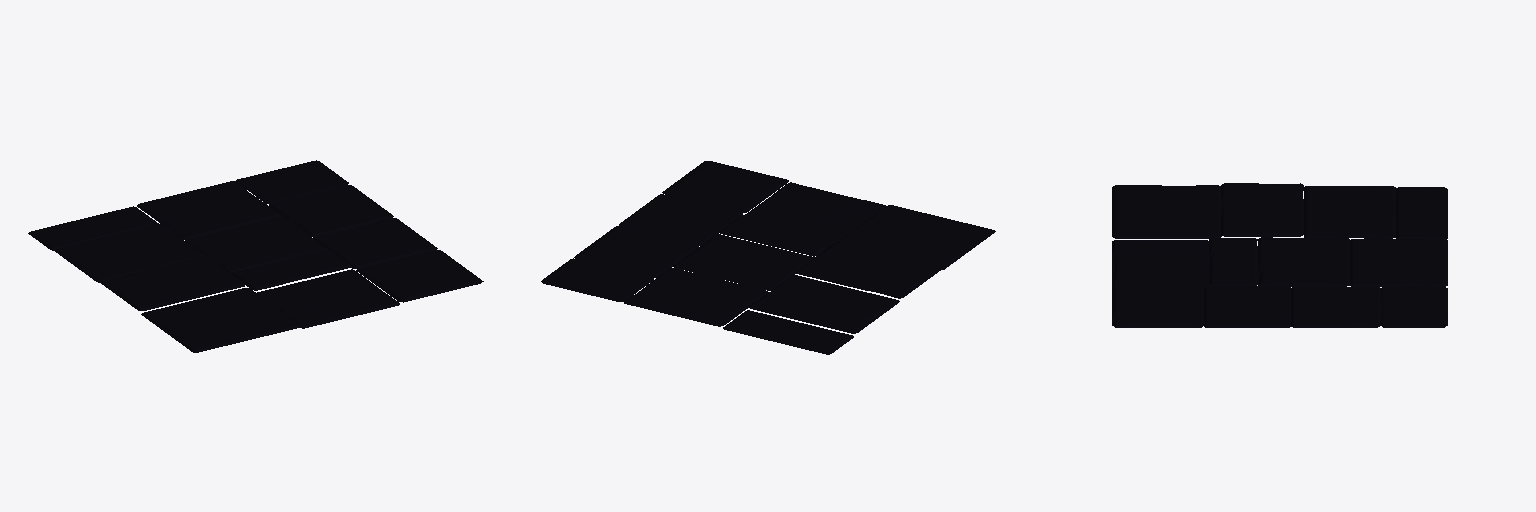
File: floor_simplified.obj
3 views of the same model, side by side, from view 1: azimuth 30°, elevation 25°; view 2: azimuth 150°, elevation 25°; view 3: azimuth 270°, elevation 25° (orthographic).
Visible parts, largest first — view 1: Floor_Modular_Cube.031; view 2: Floor_Modular_Cube.031; view 3: Floor_Modular_Cube.031.
Part boxes in pixels (bbox=[...]): Floor_Modular_Cube.031: bbox=[28, 160, 483, 352]; Floor_Modular_Cube.031: bbox=[541, 161, 995, 354]; Floor_Modular_Cube.031: bbox=[1112, 183, 1447, 327].
Size of the model in its own units: 2 by 0.0354 by 2.